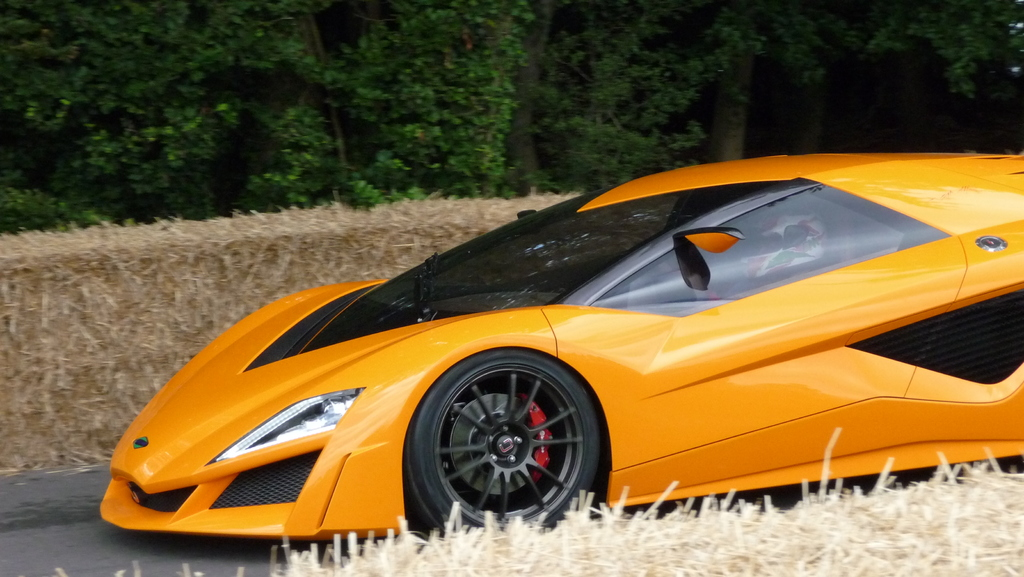Car: (99, 152, 1022, 539)
